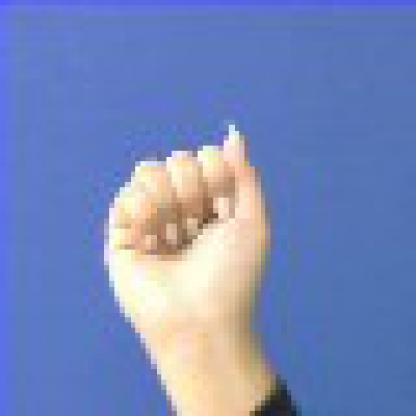zero: (67, 104, 324, 376)
